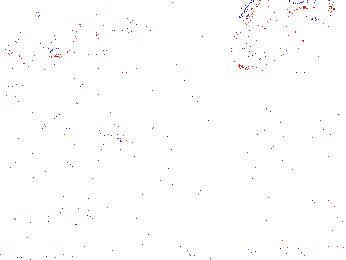moon jellyfish: (73, 19, 177, 134), (229, 1, 336, 72), (14, 2, 68, 85)
